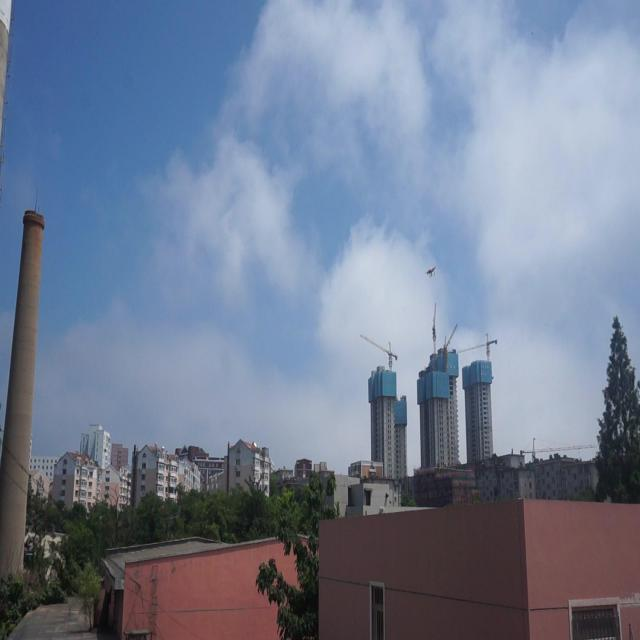UAV: (424, 265, 438, 279)
